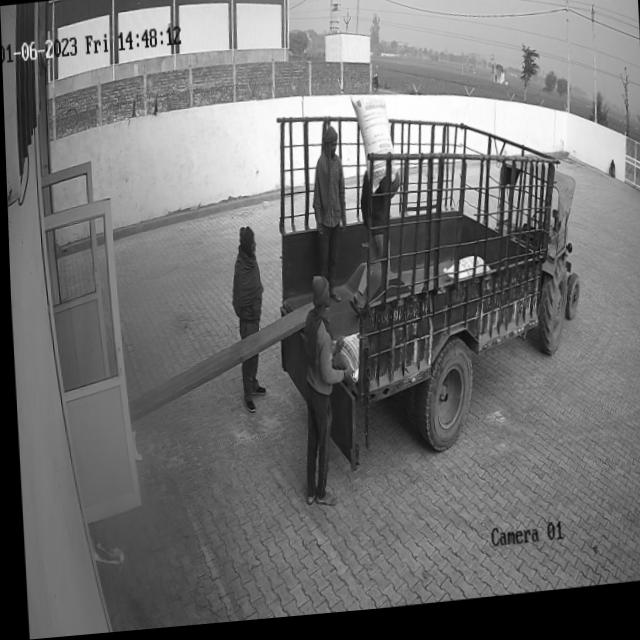sack: (348, 95, 396, 200)
